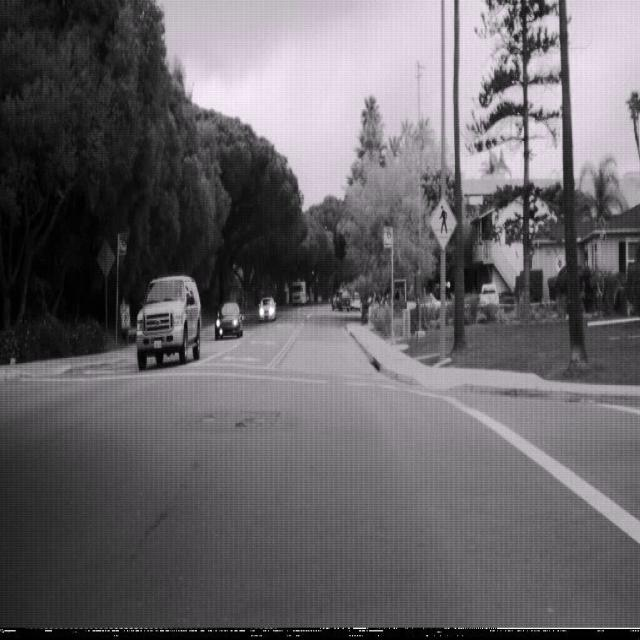pedestrianCrossing: (428, 194, 458, 251)
